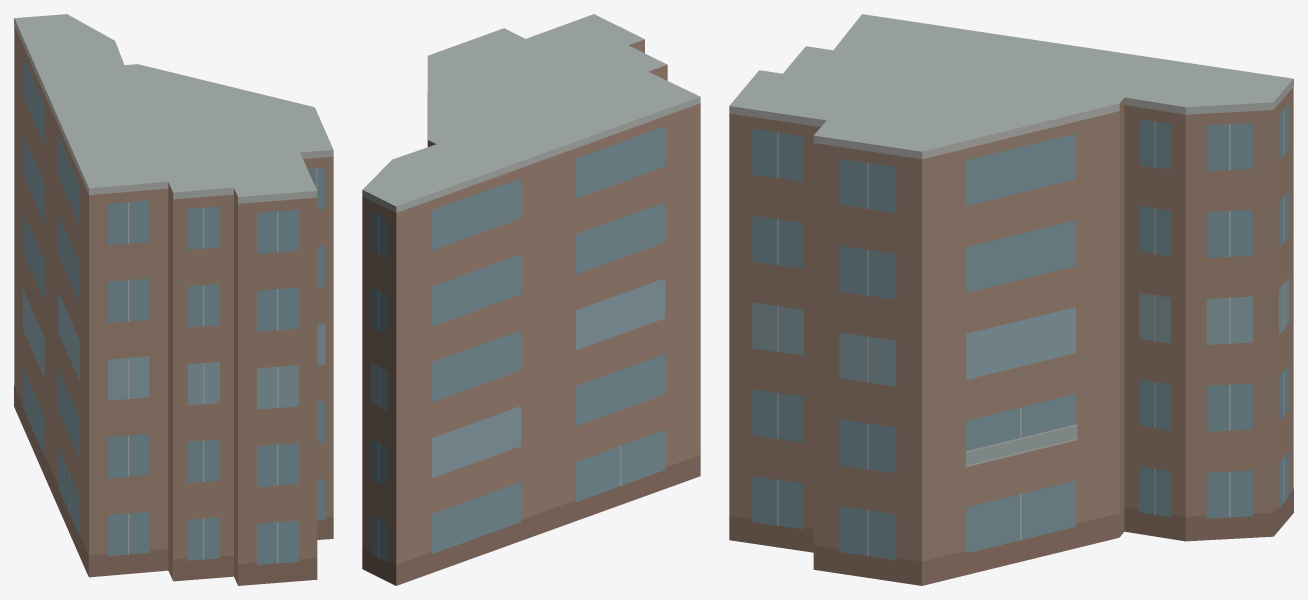
File: survey-upis-32772296.glb
3 views of the same model, side by side, from view 1: azimuth 30°, elevation 25°; view 2: azimuth 150°, elevation 25°; view 3: azimuth 270°, elevation 25° (orthographic). The views are drawn at different scales.
Visible parts, largest first — view 1: survey-upis-32772296.tmp; view 2: survey-upis-32772296.tmp; view 3: survey-upis-32772296.tmp.
Boxes of the visible parts, x1=… form: survey-upis-32772296.tmp: x1=14, y1=14, x2=333, y2=585; survey-upis-32772296.tmp: x1=362, y1=14, x2=700, y2=585; survey-upis-32772296.tmp: x1=729, y1=14, x2=1293, y2=585.
Bounding box in the file's own units: 9.54 × 14 × 16.51.
